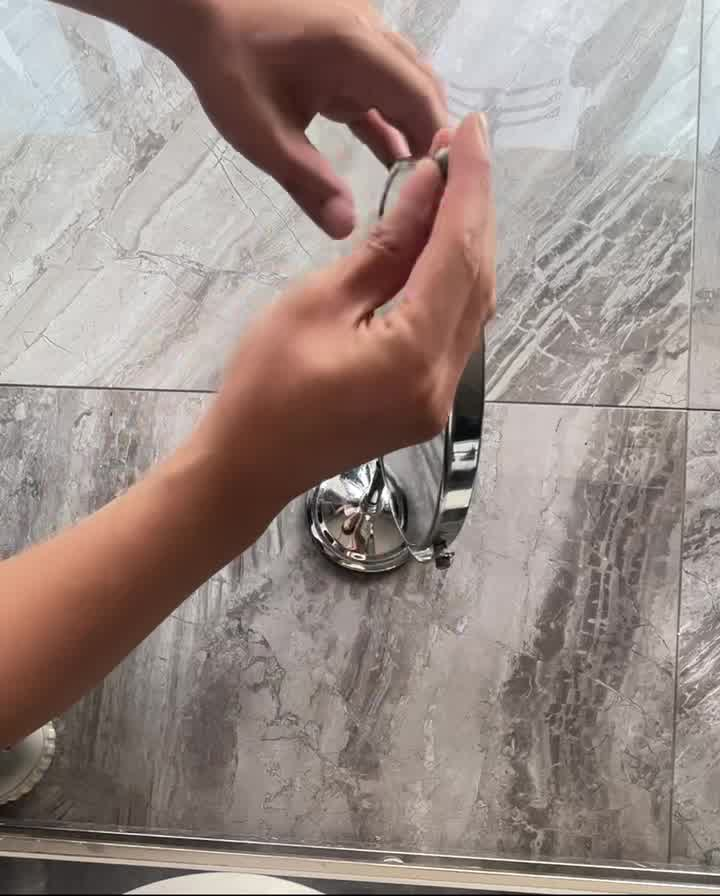base: (309, 468, 422, 583)
mirror: (387, 144, 478, 577)
